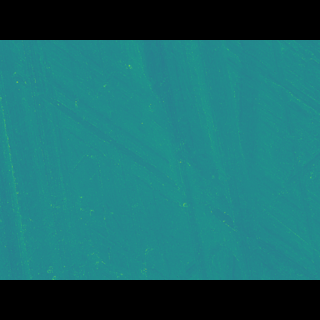Loch: (50, 161, 316, 250)
